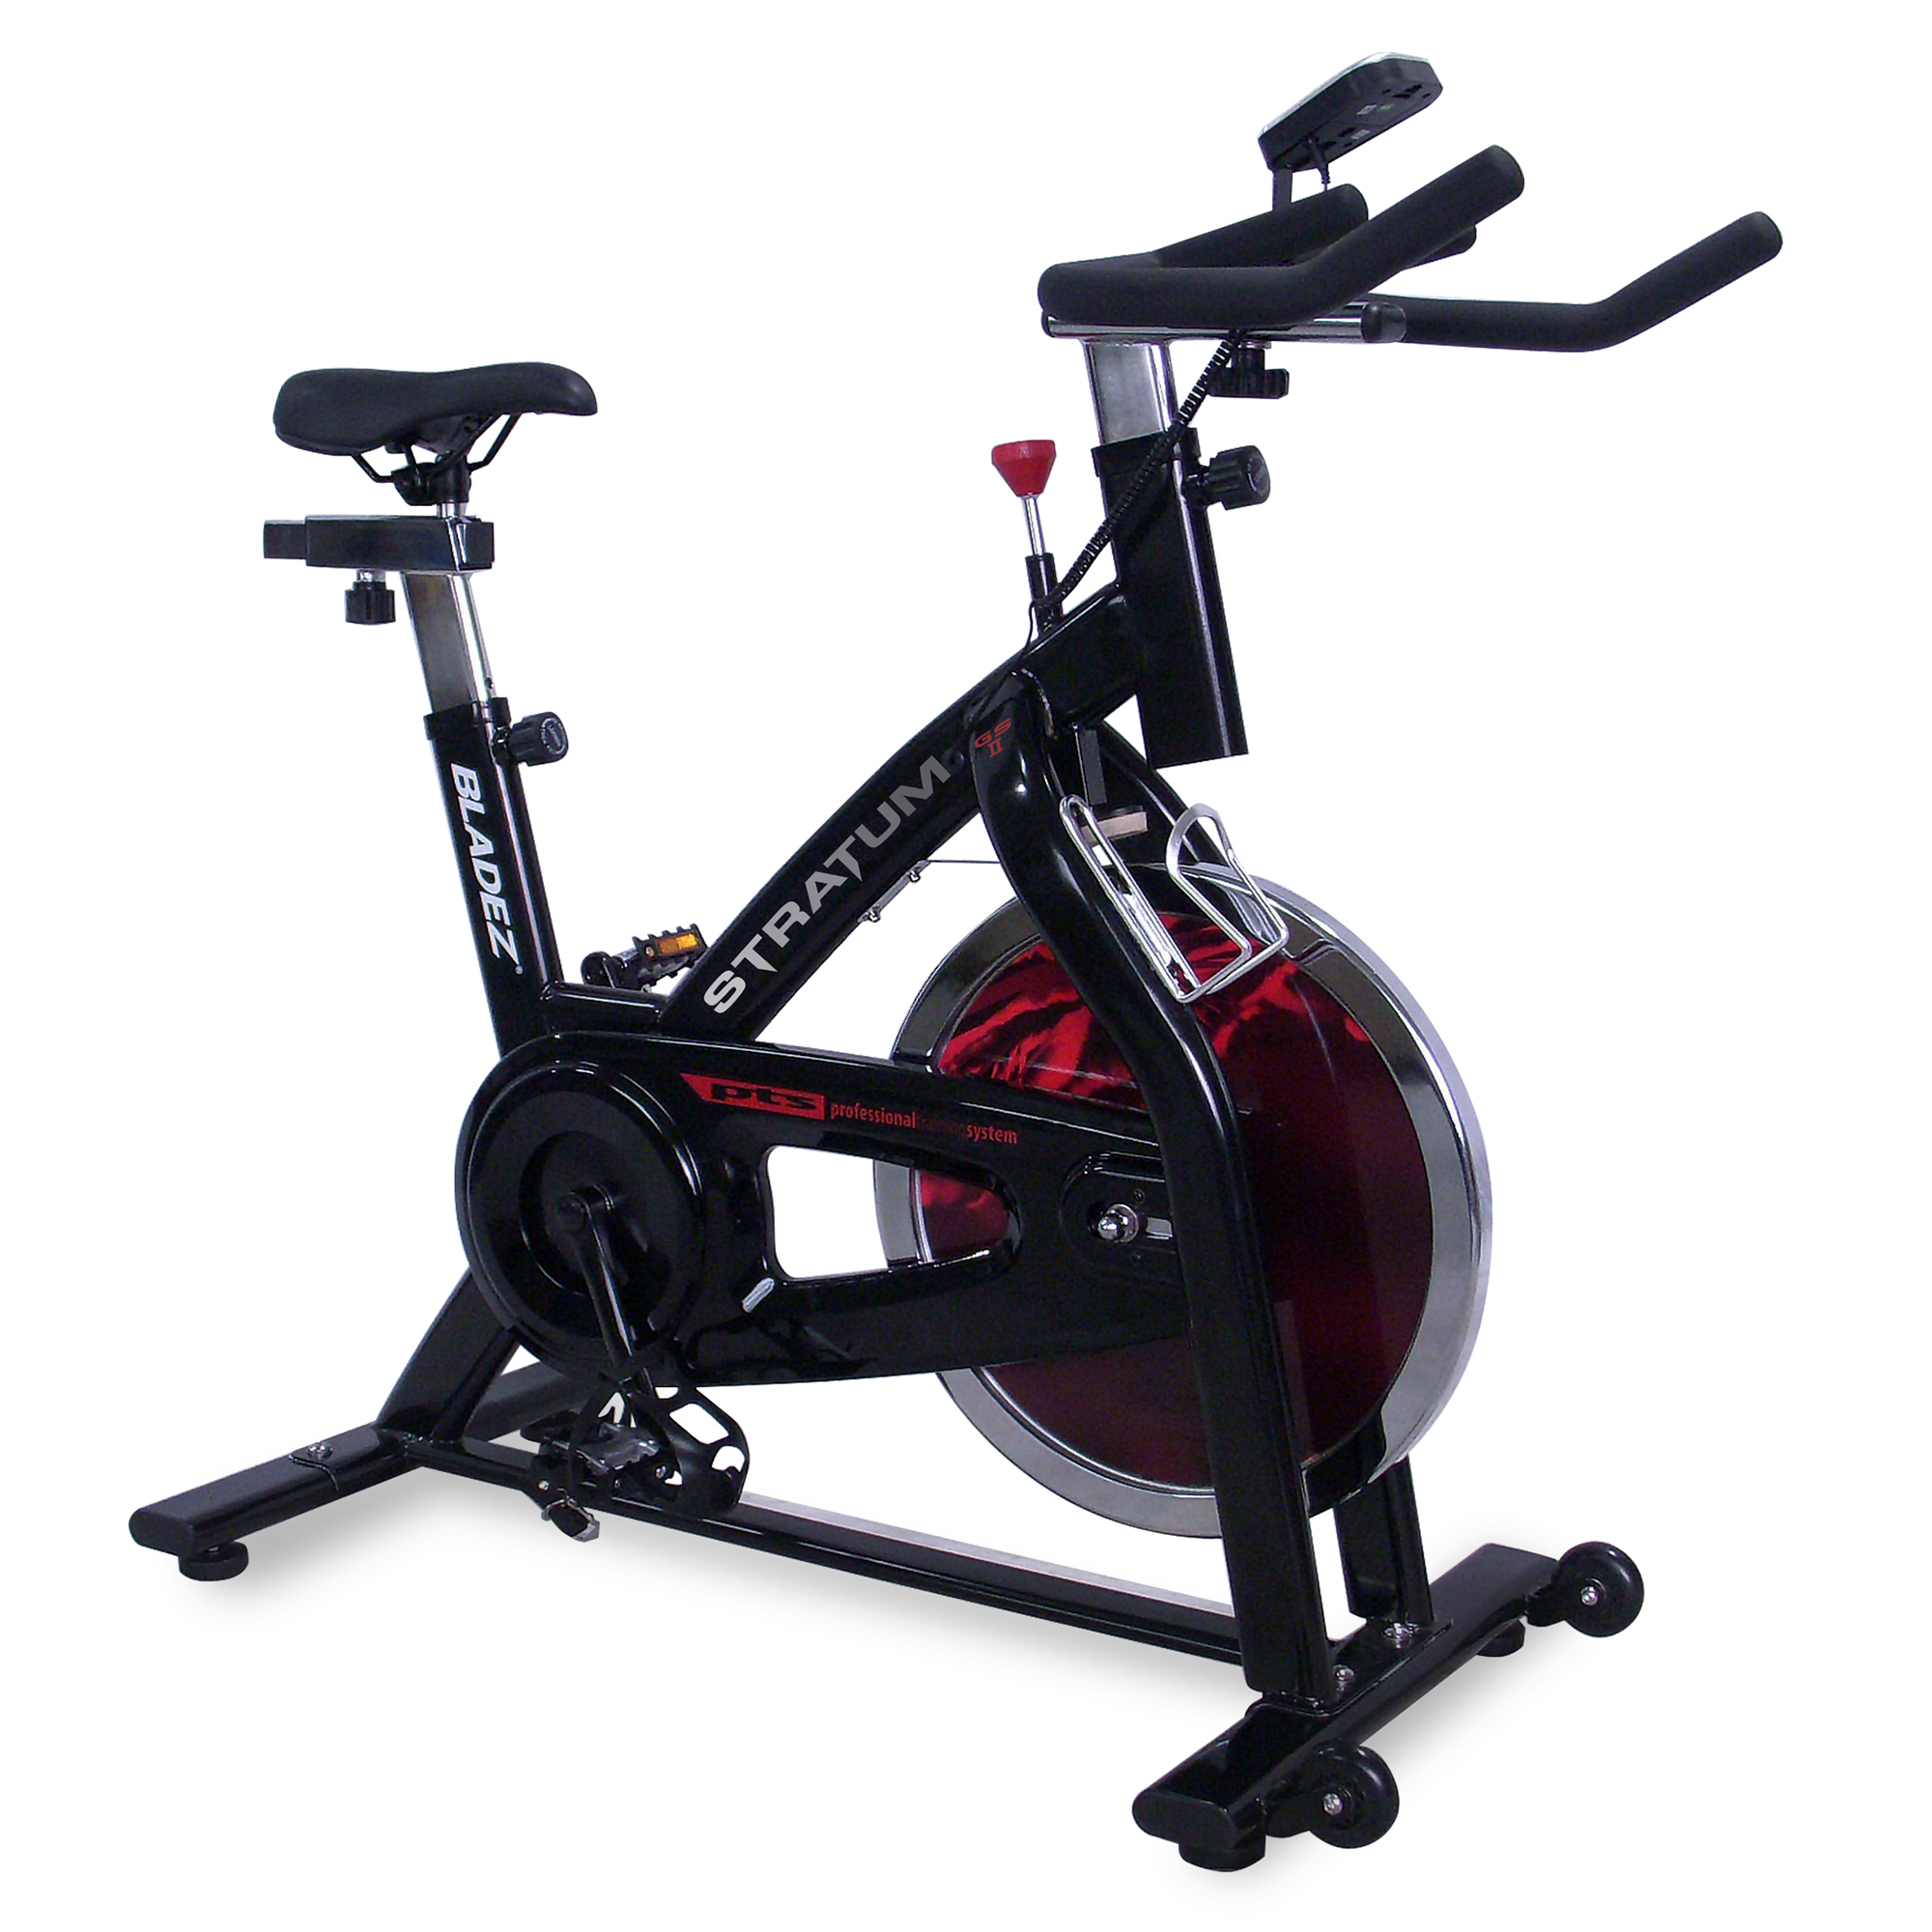gym_bike: (136, 51, 1794, 1900)
